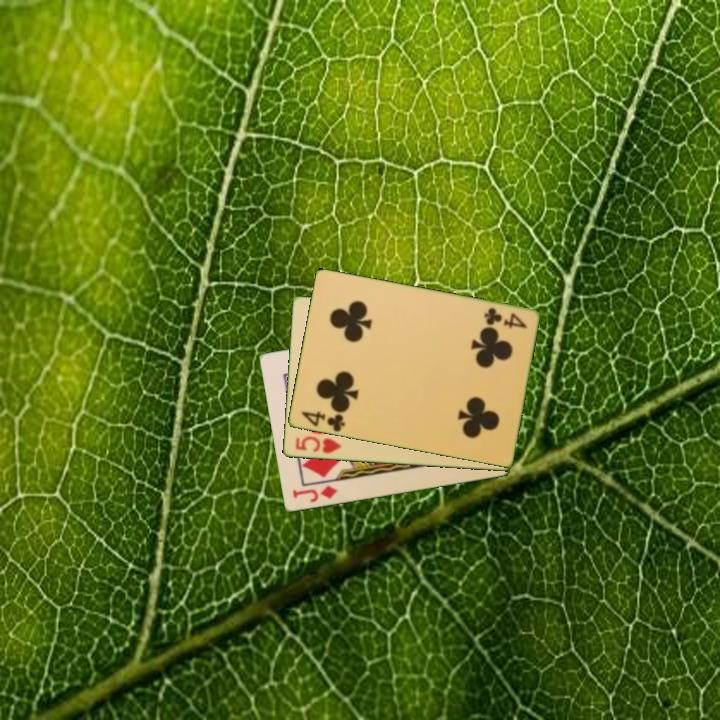4c: (297, 408, 347, 435), (480, 304, 530, 331)
5h: (292, 433, 344, 456)
Jd: (289, 482, 340, 506)
